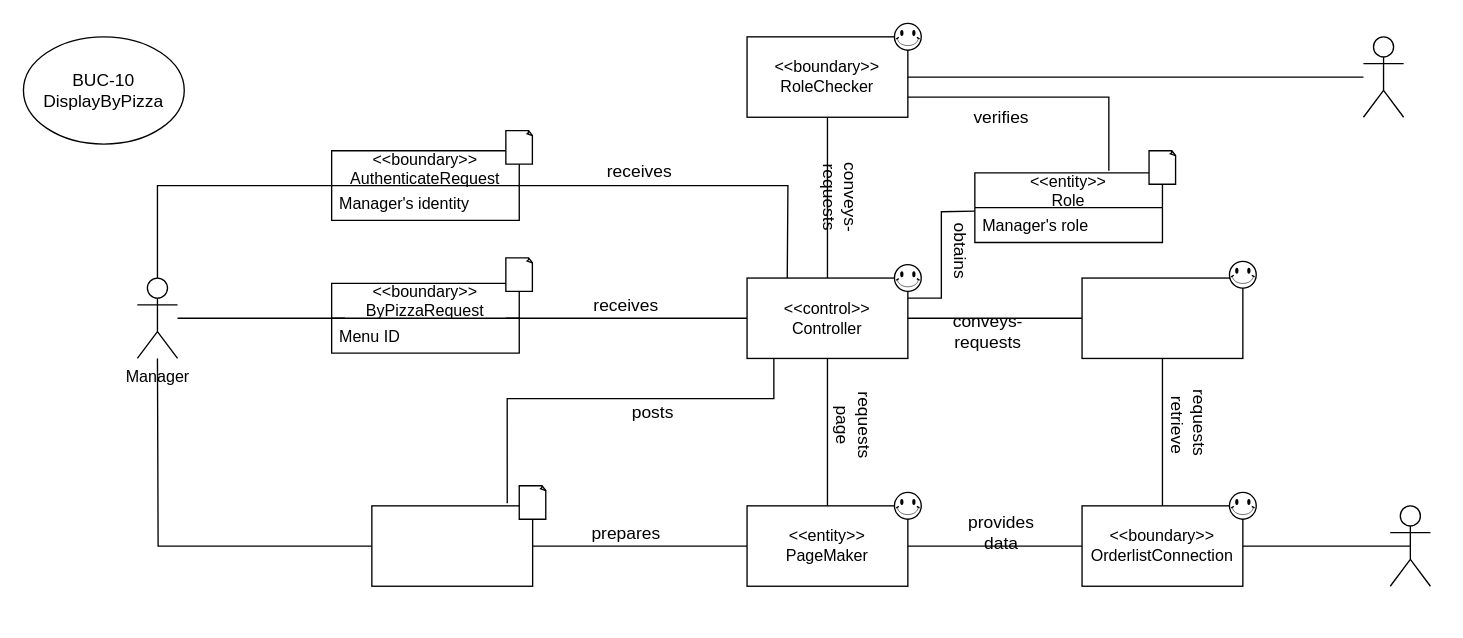
The diagram is 1463 pixels wide and 638 high, and some of its shapes have lost their labels. Here are the shapes that lost their labels. From the top down, the centre of each, then its label:
At (x=1383, y=76): "Authenticator".
At (x=1162, y=317): "<<entity>> DisplaySalesOperator".
At (x=452, y=545): "<<boundary>> InterfacePage".
At (x=1409, y=545): "Orderlist".
